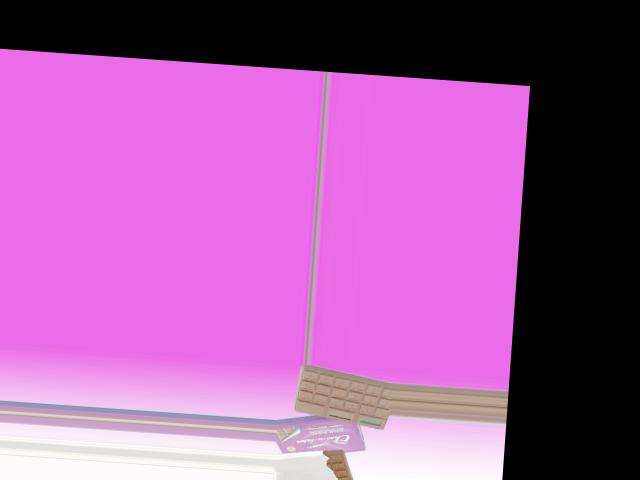chocolate: (294, 363, 389, 431)
